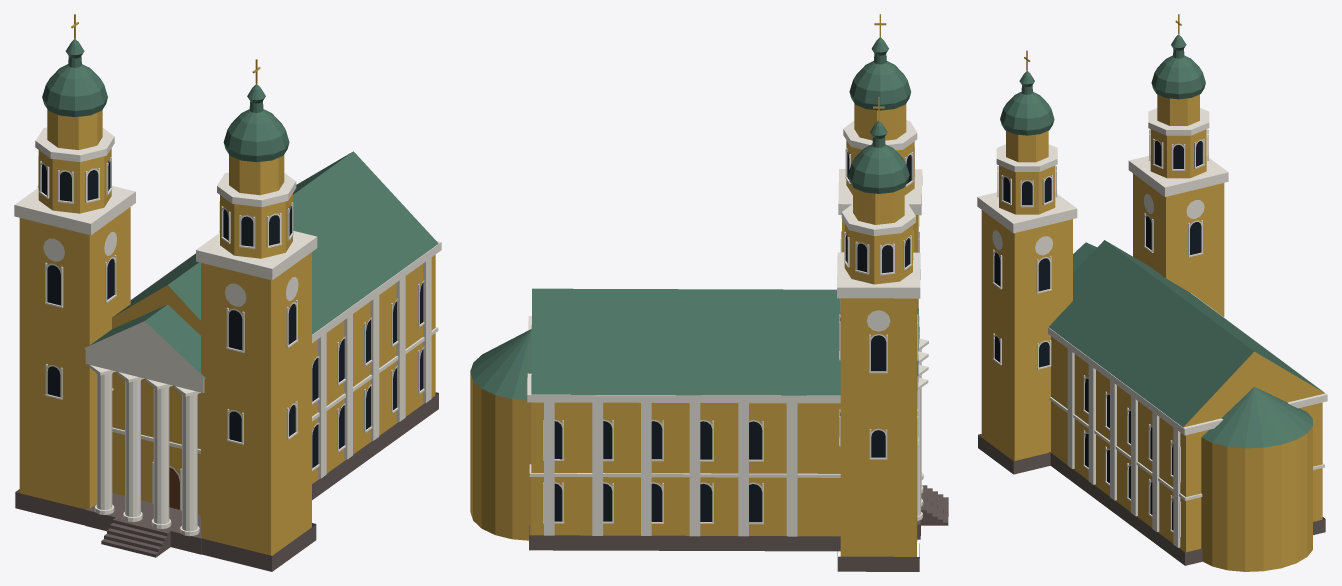
Rendered from cathedral-hi.glb.
3 renders of one model, left to right at view 1: azimuth 30°, elevation 25°; view 2: azimuth 150°, elevation 25°; view 3: azimuth 270°, elevation 25°, orthographic. The views are drawn at different scales.
Parts seen in each view (by area): view 1: lm-cathedral; view 2: lm-cathedral; view 3: lm-cathedral.
Part boxes in pixels (bbox=[...]): lm-cathedral: bbox=[14, 14, 441, 571]; lm-cathedral: bbox=[470, 14, 948, 571]; lm-cathedral: bbox=[977, 14, 1327, 571].
Size of the model in its own units: 39.64 by 42.4 by 33.42.
